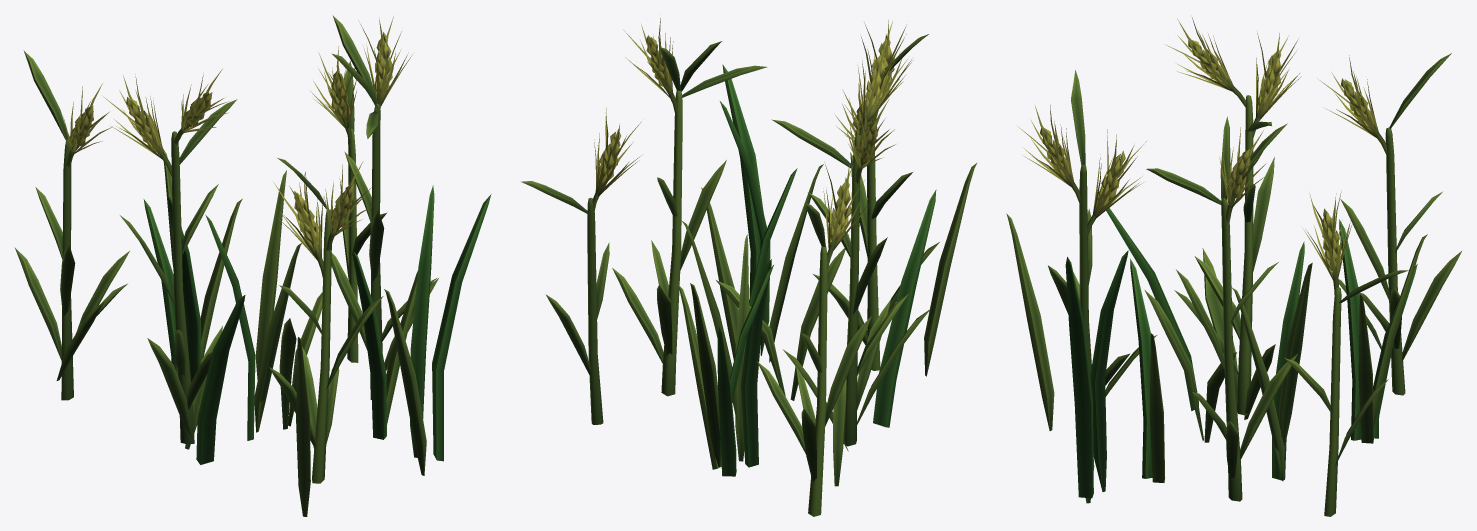
Rendered from SM_Plant_Barley_Lv3.fbx.
The picture shows the model from 3 angles, left to right: view 1: azimuth 30°, elevation 25°; view 2: azimuth 150°, elevation 25°; view 3: azimuth 270°, elevation 25°; orthographic projection.
Parts seen in each view (by area): view 1: SM_Plant_Barley_Lv3; view 2: SM_Plant_Barley_Lv3; view 3: SM_Plant_Barley_Lv3.
Part boxes in pixels (box(x1,y1,x2,y2)): SM_Plant_Barley_Lv3: box(14, 15, 491, 516); SM_Plant_Barley_Lv3: box(521, 18, 977, 516); SM_Plant_Barley_Lv3: box(1006, 17, 1461, 516).
Size of the model in its own units: 52.8 by 67.11 by 65.81.
